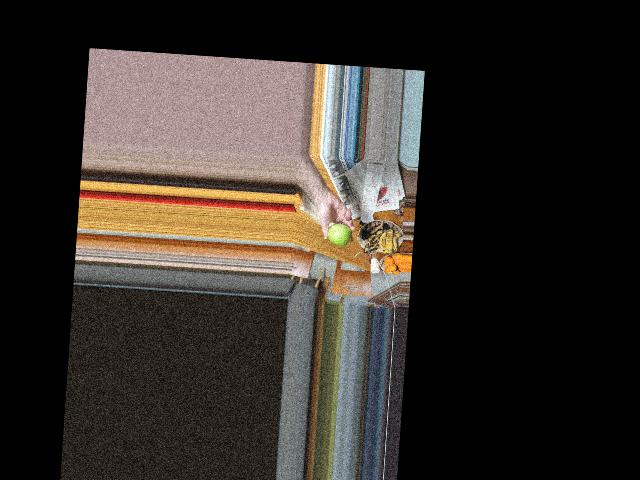apple: (328, 222, 352, 248)
